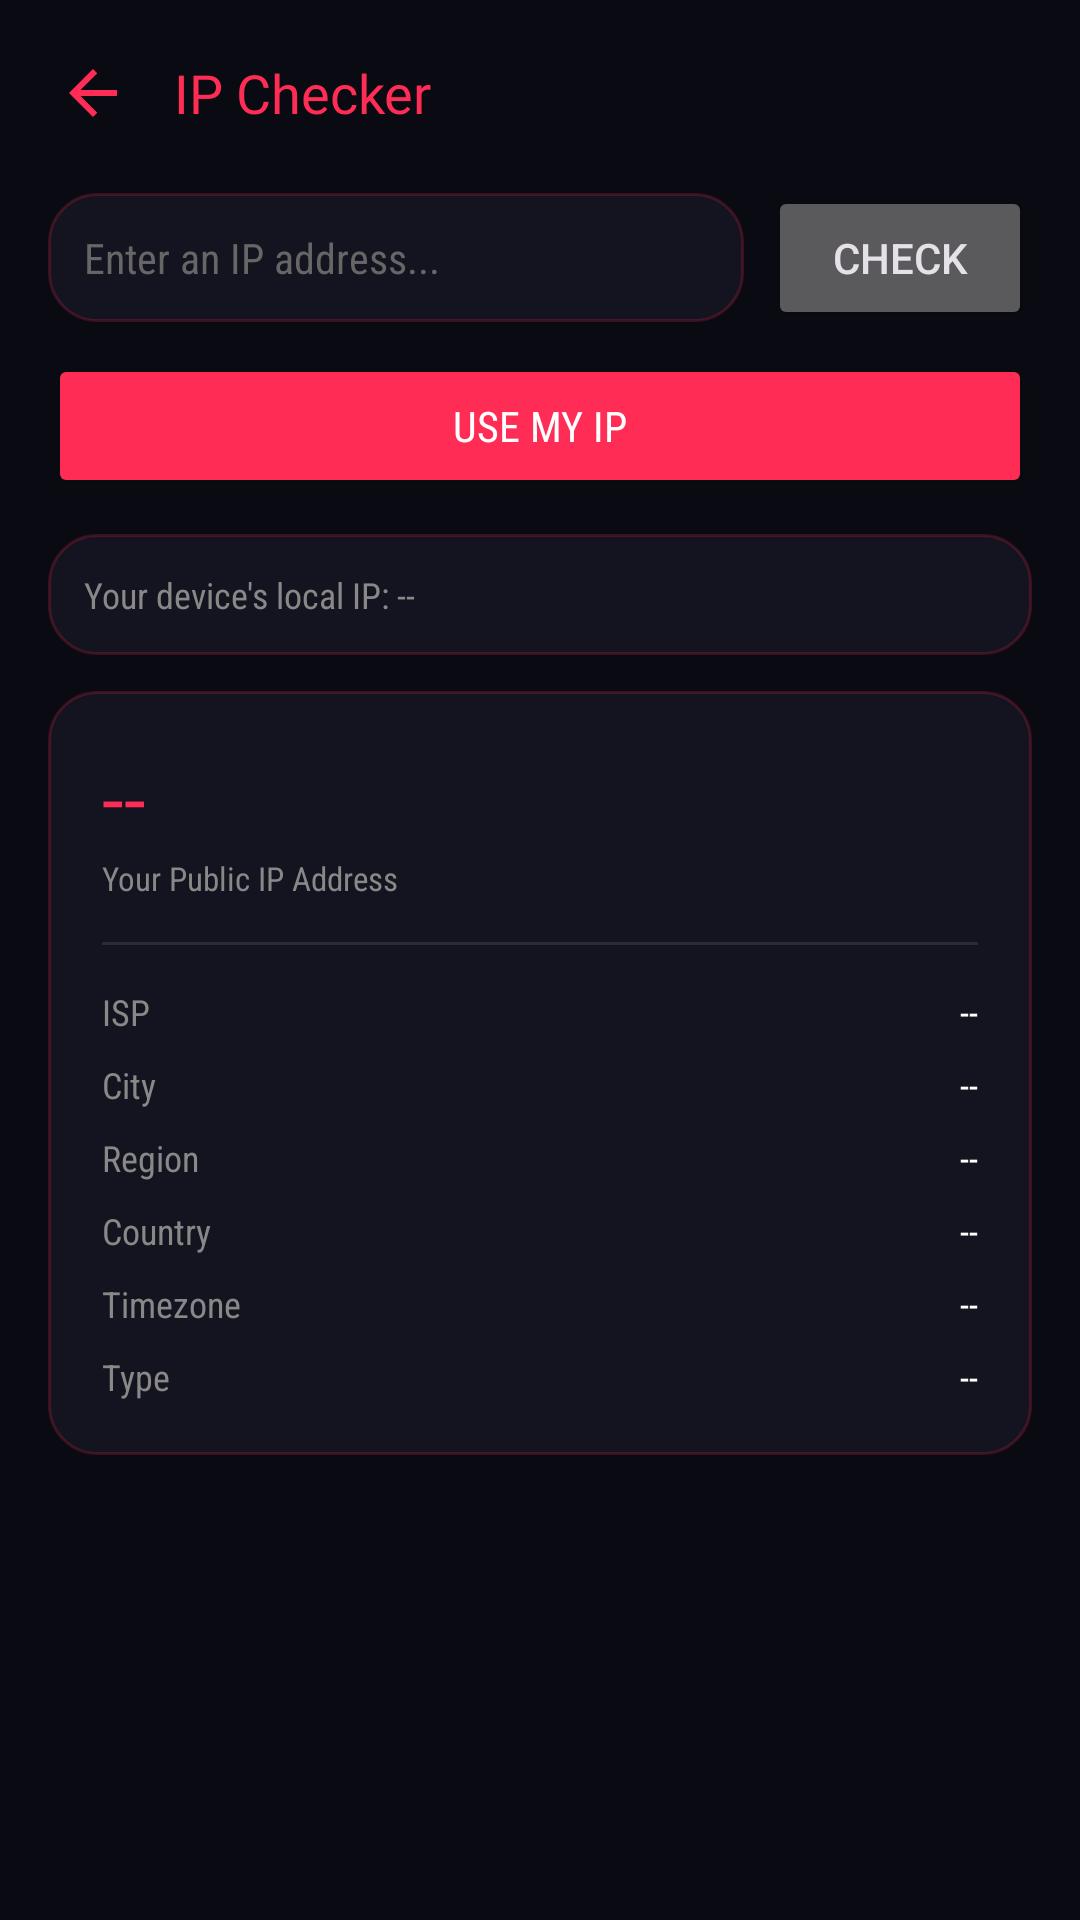

Locate icon controls on the screen. Image size 1080 × 1920, boxes as Rect(x1, y1, x2, y2).
Back: Rect(69, 69, 117, 117)
